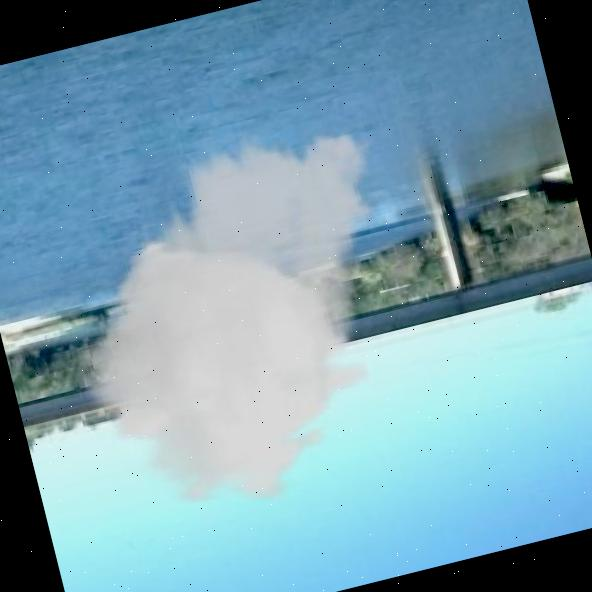smoke: (60, 116, 454, 524)
